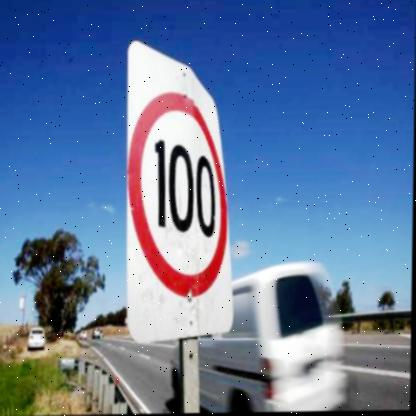Speed Limit -100-: (127, 81, 232, 302)
